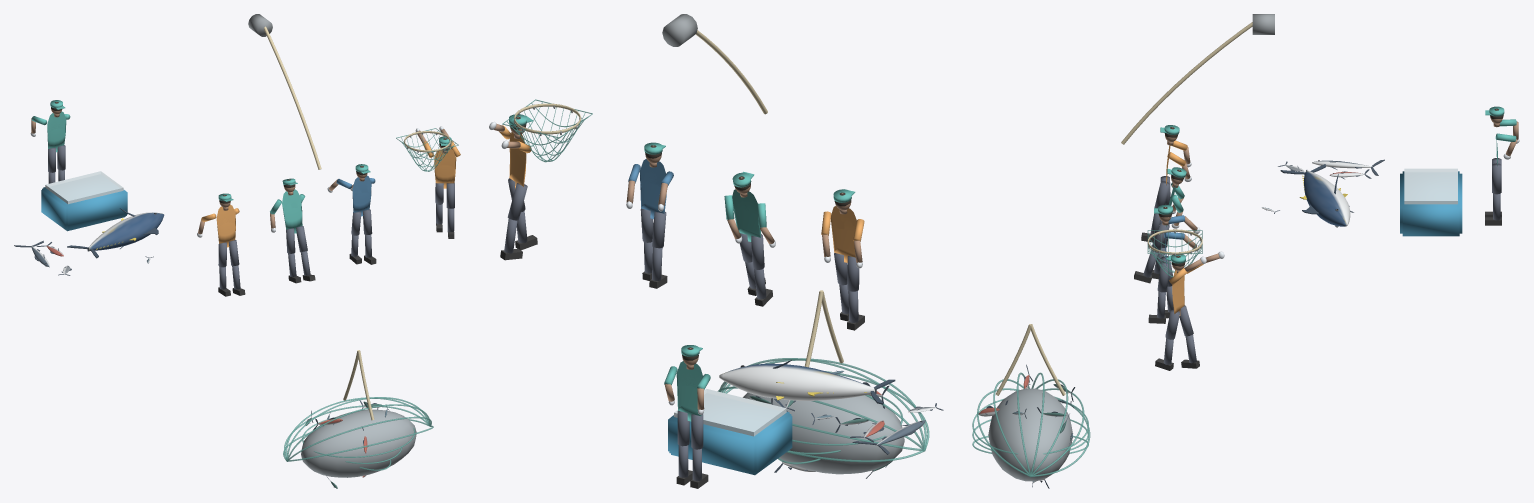
Rendered from fishing_action.glb.
3 views of the same model, side by side, from view 1: azimuth 30°, elevation 25°; view 2: azimuth 150°, elevation 25°; view 3: azimuth 270°, elevation 25° (orthographic). The views are drawn at different scales.
Visible parts, largest first — view 1: NetBag_Mass, SortCrate, Deck_Tuna_Body, SortCrateIce, Caster_Torso, Hauler1_Torso, Hauler0_Torso, Hauler2_Torso, Sorter_Torso, HaulRope; view 2: NetBag_Mass, SortCrate, Deck_Tuna_Body, SortCrateIce, Sorter_Torso, Hauler2_Torso, Hauler0_Torso, Hauler1_Torso, HaulBlock, Caster_Torso, HaulRope, NetBag_Cord4 (+2 smaller); view 3: NetBag_Mass, SortCrate, SortCrateIce, Deck_Tuna_Body, HaulRope.
Part boxes in pixels (left/top/right/bottom): NetBag_Mass: left=301, top=409, right=416, bottom=477; SortCrate: left=41, top=187, right=127, bottom=231; Deck_Tuna_Body: left=89, top=212, right=164, bottom=250; SortCrateIce: left=45, top=171, right=123, bottom=204; Caster_Torso: left=434, top=148, right=456, bottom=188; Hauler1_Torso: left=282, top=189, right=302, bottom=233; Hauler0_Torso: left=216, top=204, right=235, bottom=247; Hauler2_Torso: left=352, top=175, right=371, bottom=216; Sorter_Torso: left=47, top=111, right=66, bottom=152; HaulRope: left=264, top=26, right=321, bottom=169; NetBag_Mass: left=743, top=392, right=904, bottom=474; SortCrate: left=668, top=412, right=792, bottom=475; Deck_Tuna_Body: left=719, top=363, right=874, bottom=400; SortCrateIce: left=674, top=389, right=786, bottom=436; Sorter_Torso: left=676, top=361, right=702, bottom=421; Hauler2_Torso: left=639, top=159, right=666, bottom=218; Hauler0_Torso: left=831, top=206, right=856, bottom=262; Hauler1_Torso: left=732, top=189, right=760, bottom=241; HaulBlock: left=662, top=14, right=697, bottom=46; Caster_Torso: left=509, top=132, right=526, bottom=188; HaulRope: left=695, top=30, right=767, bottom=114; NetBag_Cord4: left=721, top=358, right=925, bottom=449; NetBag_Mass: left=988, top=388, right=1072, bottom=481; SortCrate: left=1400, top=171, right=1462, bottom=236; SortCrateIce: left=1404, top=168, right=1457, bottom=204; Deck_Tuna_Body: left=1304, top=170, right=1350, bottom=226; HaulRope: left=1121, top=22, right=1252, bottom=144.
Size of the model in its own units: 7.43 by 7.74 by 8.34.
